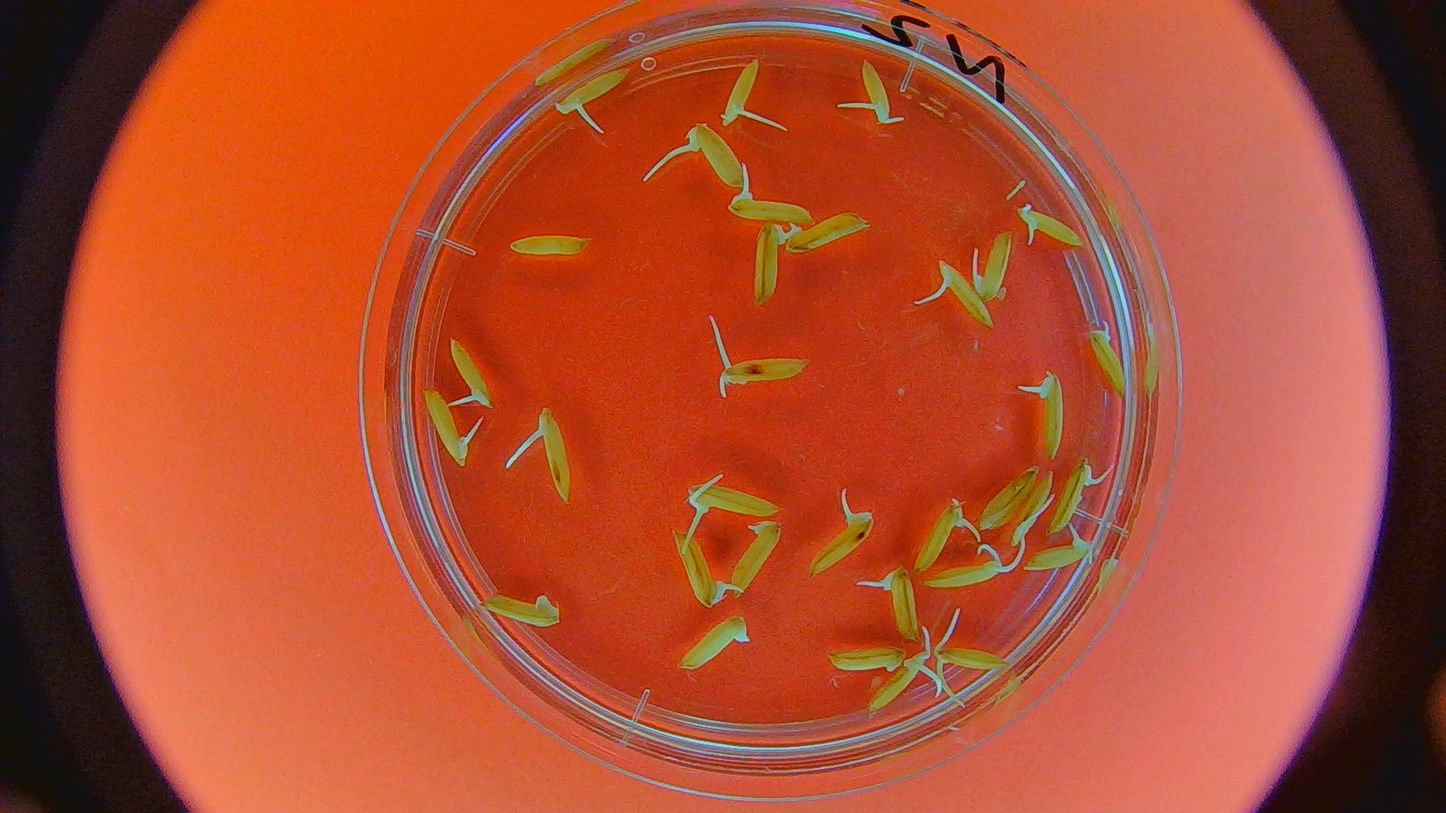no: (978, 458, 1040, 530), (730, 519, 784, 595), (477, 589, 563, 632), (679, 615, 748, 668), (783, 212, 862, 256), (507, 231, 592, 257), (828, 647, 908, 674)
yes: (807, 513, 875, 583), (672, 530, 724, 609), (866, 652, 933, 712), (689, 123, 746, 192), (914, 498, 966, 570), (536, 406, 573, 504), (554, 66, 627, 115), (445, 340, 496, 410), (423, 391, 469, 464), (692, 480, 779, 518), (1022, 530, 1095, 575), (920, 551, 1001, 590), (1053, 457, 1095, 531), (1088, 324, 1130, 397), (1030, 370, 1065, 457), (880, 566, 920, 642), (750, 222, 786, 306), (1017, 205, 1085, 247), (975, 226, 1014, 297), (939, 265, 988, 321), (1017, 470, 1055, 540), (718, 60, 759, 123), (717, 354, 806, 383), (728, 192, 810, 222), (857, 61, 893, 126), (935, 642, 1010, 672)
